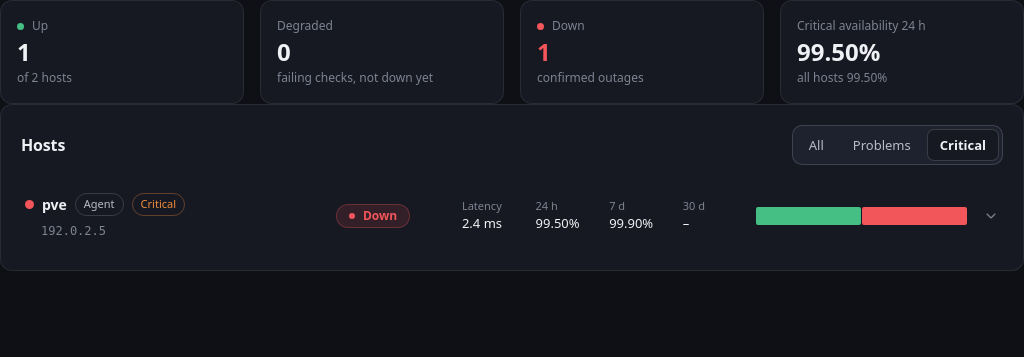
it: HealthStatus › lists only critical hosts by default, all of them on request
Expected: the button with class "seg-btn" reads "Critical", [927, 129, 999, 161]
Expected: the elements with class "name" read "pve", in this order, [42, 194, 67, 215]
Step 1. Click the button with class "seg-btn" showing "All" → [816, 145], box [796, 129, 837, 161]
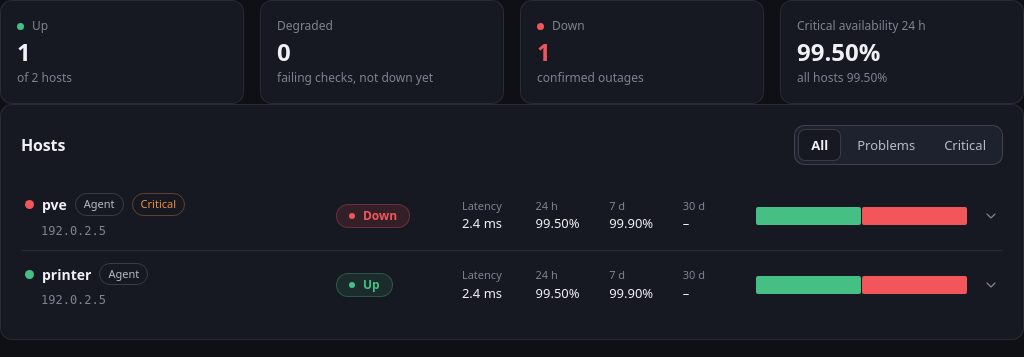
Expected: the elements with class "name" read "pve", "printer", in this order, [42, 194, 67, 215]; [42, 264, 91, 285]
